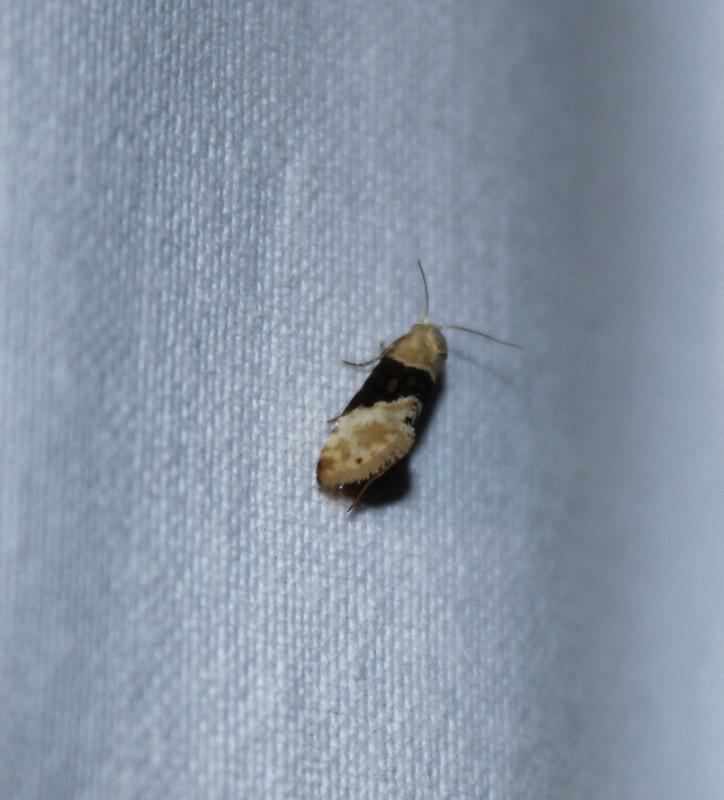Eupoecilia Ambiguella: (312, 256, 523, 517)
